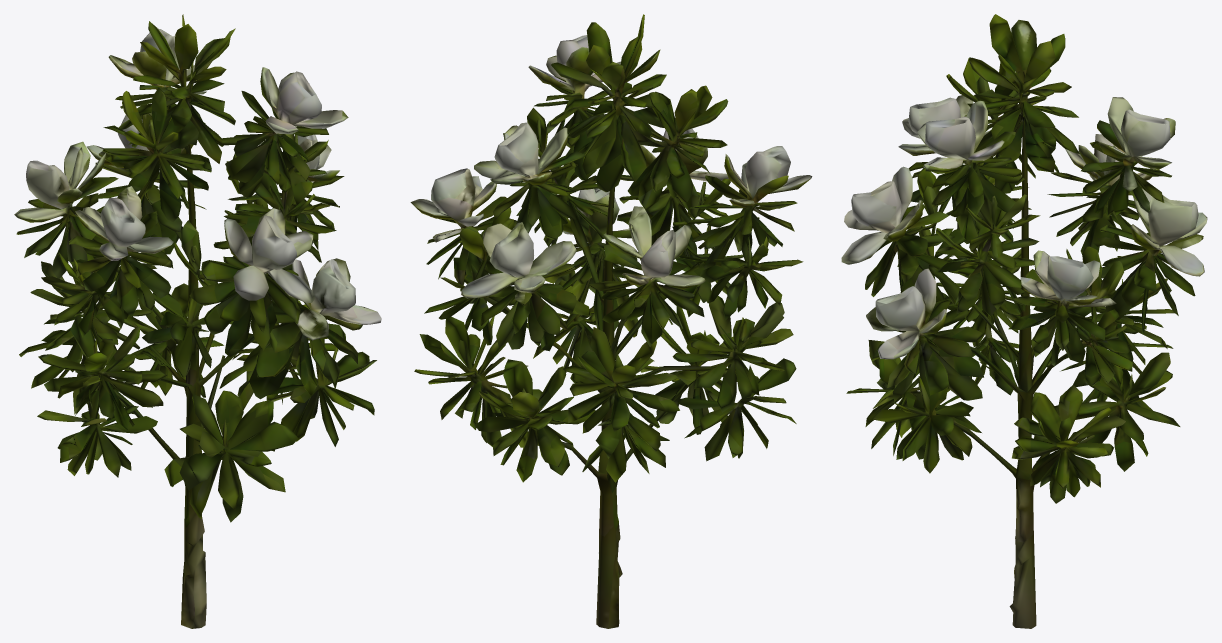
The model's file is GuangYuLan.glb.
3 renders of one model, left to right at view 1: azimuth 30°, elevation 25°; view 2: azimuth 150°, elevation 25°; view 3: azimuth 270°, elevation 25°, orthographic. The views are drawn at different scales.
Parts seen in each view (by area): view 1: tripo_node_5aba60bc-f07f-42d1-a421-e6e0eab4d961; view 2: tripo_node_5aba60bc-f07f-42d1-a421-e6e0eab4d961; view 3: tripo_node_5aba60bc-f07f-42d1-a421-e6e0eab4d961.
Part boxes in pixels (left/top/right/bottom): tripo_node_5aba60bc-f07f-42d1-a421-e6e0eab4d961: left=14, top=14, right=381, bottom=628; tripo_node_5aba60bc-f07f-42d1-a421-e6e0eab4d961: left=410, top=14, right=812, bottom=628; tripo_node_5aba60bc-f07f-42d1-a421-e6e0eab4d961: left=841, top=14, right=1207, bottom=628.
Bounding box in the file's own units: 0.5673 × 0.9847 × 0.5433.
1 material, 1 textured.
